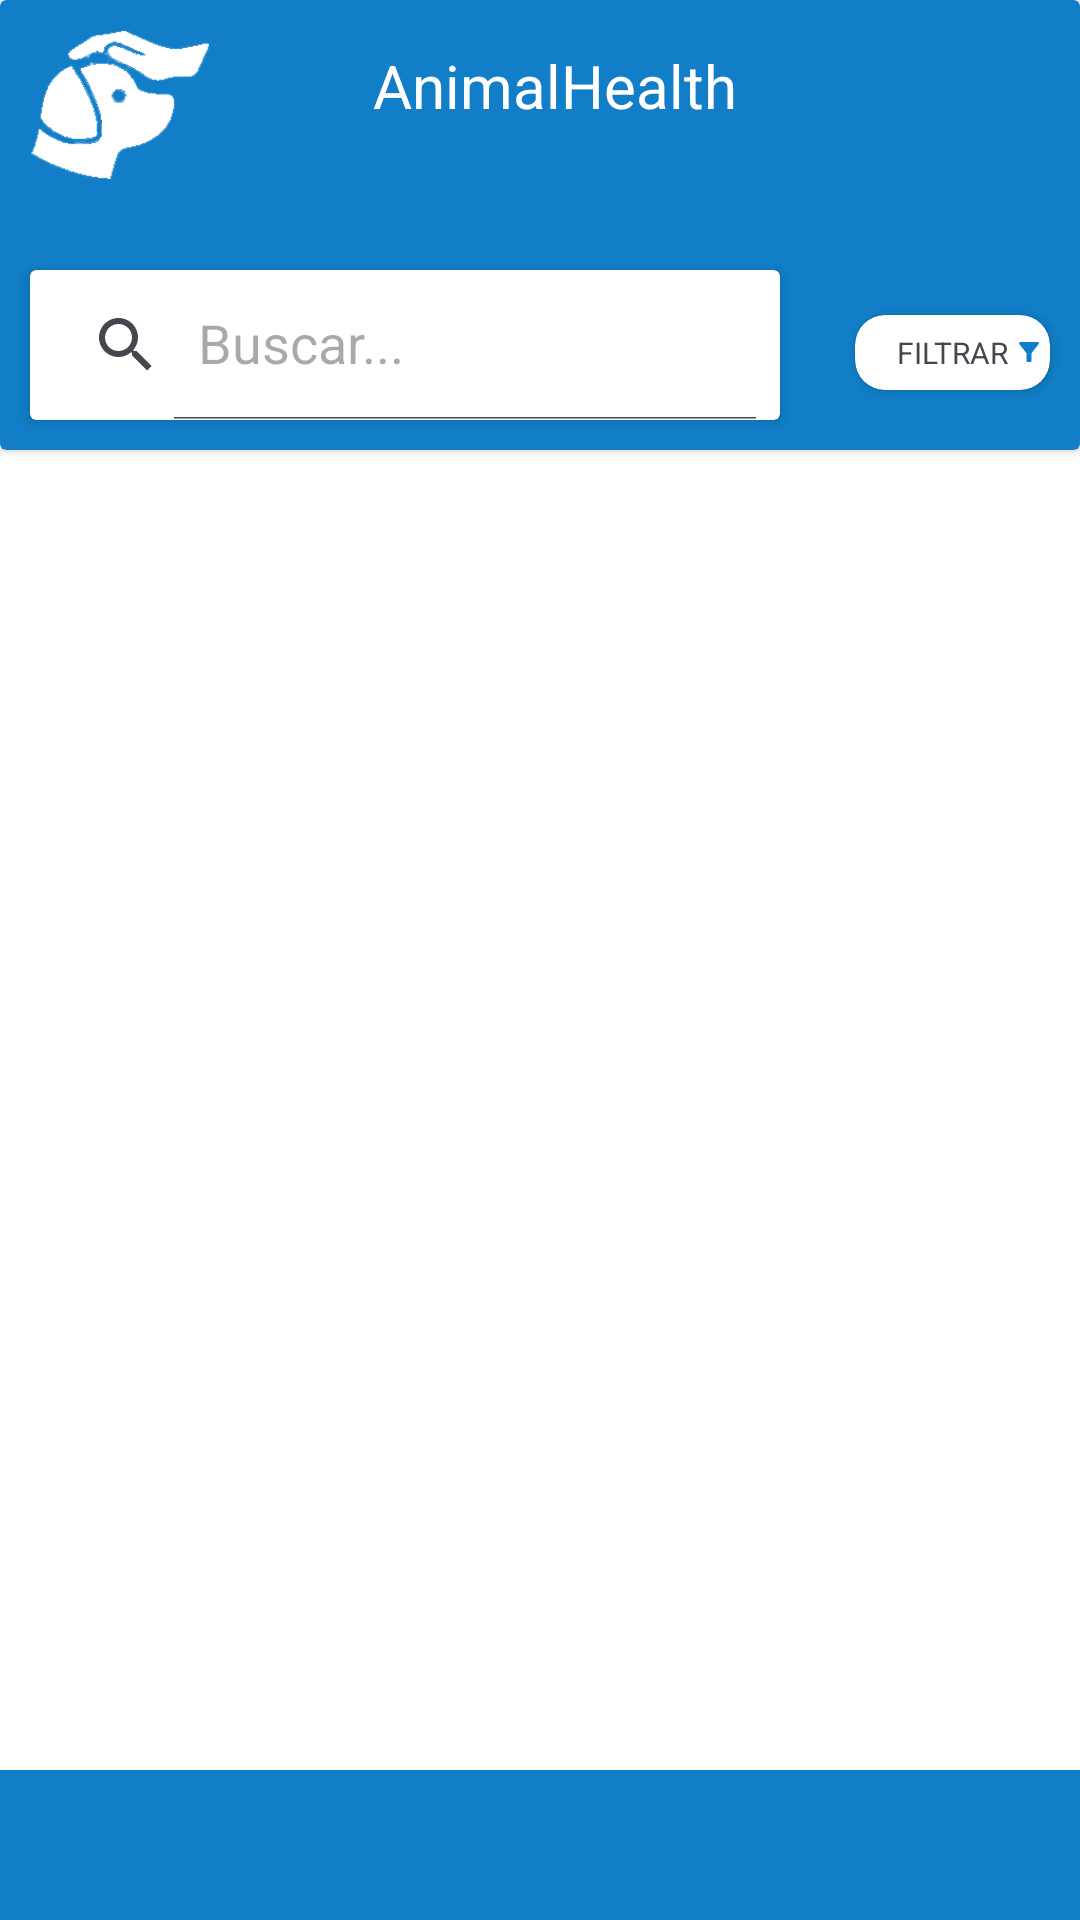

Screen size 1080px x 1920px. Icon name, then its center in pixels as (x=x, y=y):
animalhealth: (x=120, y=105)
